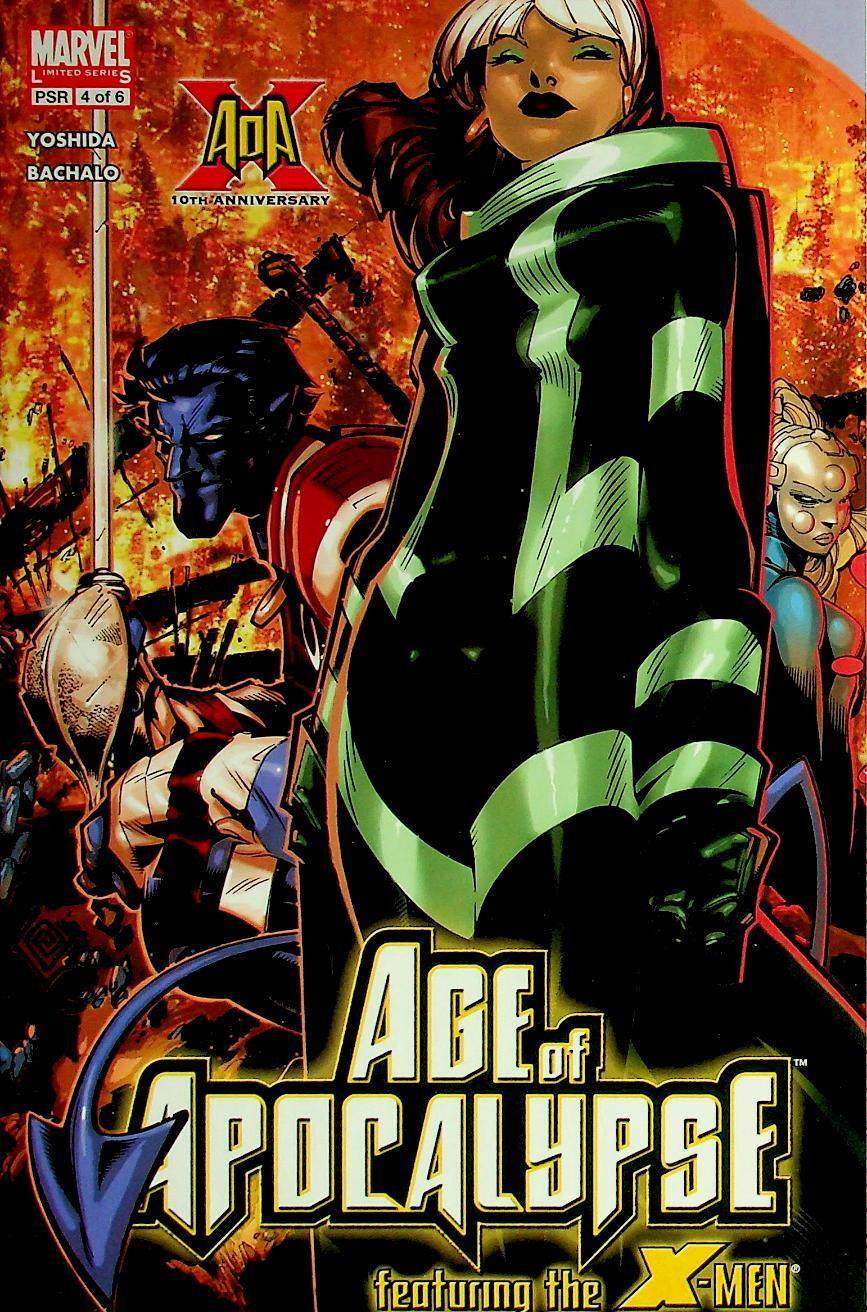comic: (0, 0, 864, 1311)
